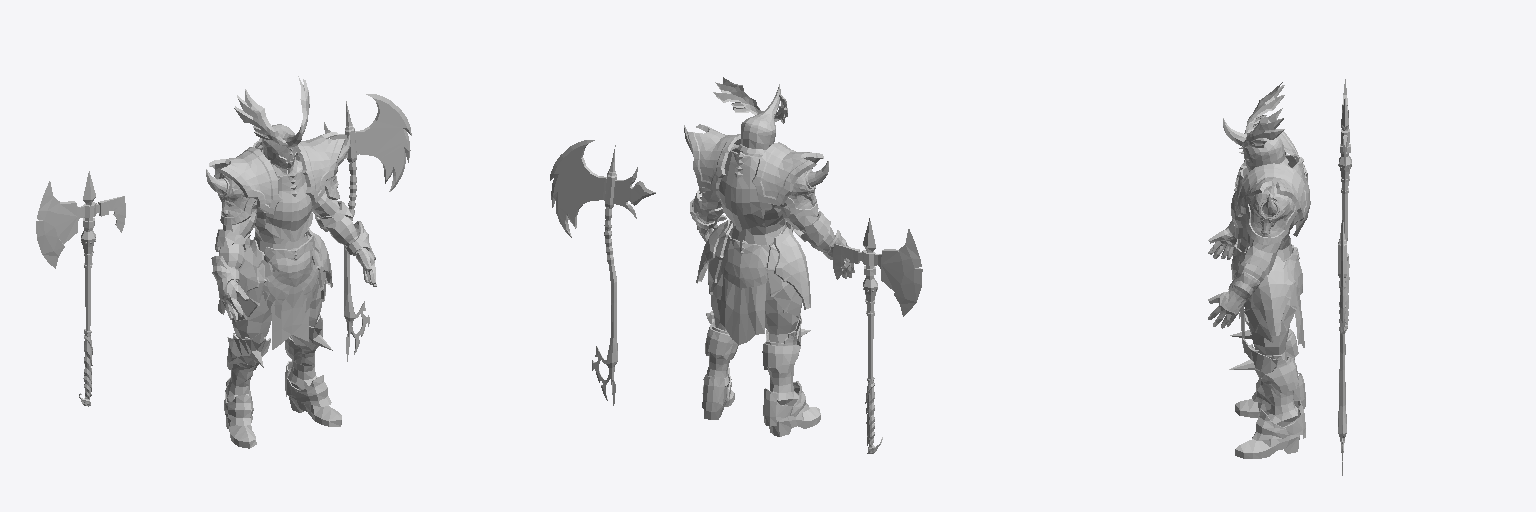
File: Berserker.obj
3 views of the same model, side by side, from view 1: azimuth 30°, elevation 25°; view 2: azimuth 150°, elevation 25°; view 3: azimuth 270°, elevation 25° (orthographic).
Parts seen in each view (by area): view 1: _ungame-18, Object02, Object01; view 2: _ungame-18, Object01, Object02; view 3: _ungame-18, Object01, Object02.
Boxes of the visible parts, x1=… form: _ungame-18: x1=206, y1=76, x2=376, y2=448; Object02: x1=36, y1=171, x2=125, y2=406; Object01: x1=324, y1=94, x2=411, y2=361; _ungame-18: x1=684, y1=77, x2=854, y2=436; Object01: x1=550, y1=140, x2=655, y2=405; Object02: x1=833, y1=218, x2=922, y2=453; _ungame-18: x1=1208, y1=82, x2=1310, y2=458; Object01: x1=1338, y1=210, x2=1346, y2=475; Object02: x1=1338, y1=79, x2=1351, y2=332.
Bounding box in the file's own units: 64.56 × 55.87 × 21.58.